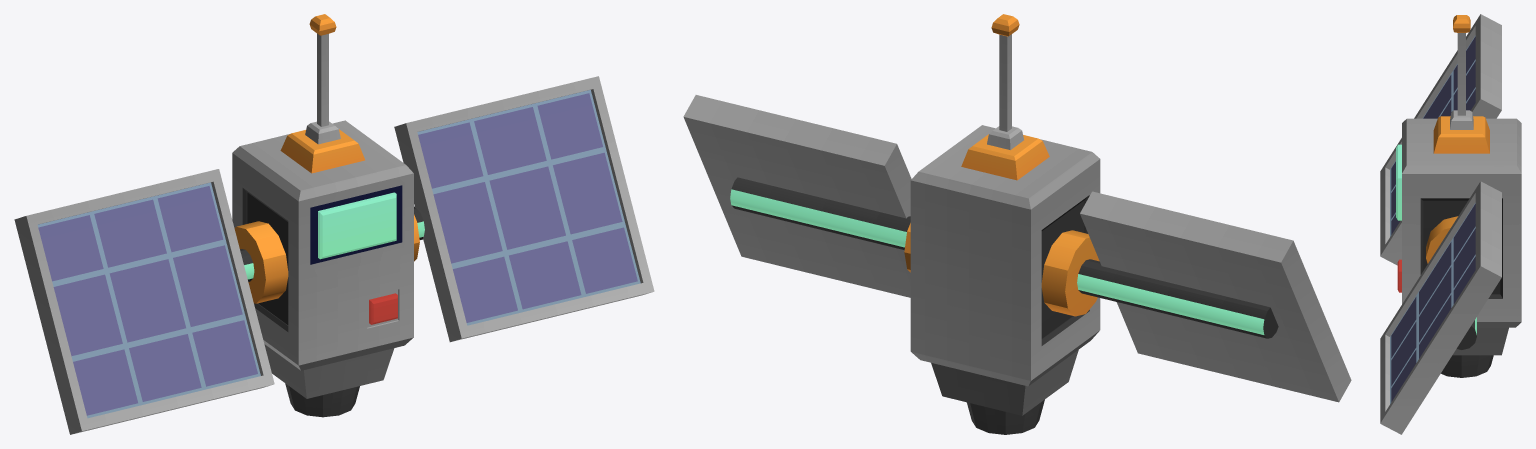
The model's file is Satellite.glb.
3 renders of one model, left to right at view 1: azimuth 30°, elevation 25°; view 2: azimuth 150°, elevation 25°; view 3: azimuth 270°, elevation 25°, orthographic. The views are drawn at different scales.
Visible parts, largest first — view 1: Satellite; view 2: Satellite; view 3: Satellite.
Boxes of the visible parts, x1,y1,x2,y2 form: Satellite: (14, 14, 654, 434); Satellite: (683, 14, 1351, 434); Satellite: (1380, 14, 1521, 434).
Size of the model in its own units: 7.23 by 4.67 by 1.72.
2 materials, 2 textured.
